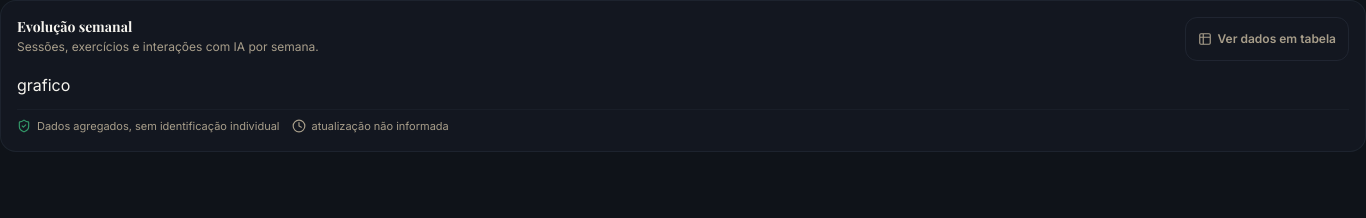
Test: ChartFrame (contrato §9 — gráfico acessível) › tabela vazia informa ausência de dado no período
Click the button "Ver dados em tabela". click: x=1267, y=39
box: x1=1185 y1=17 x2=1349 y2=61
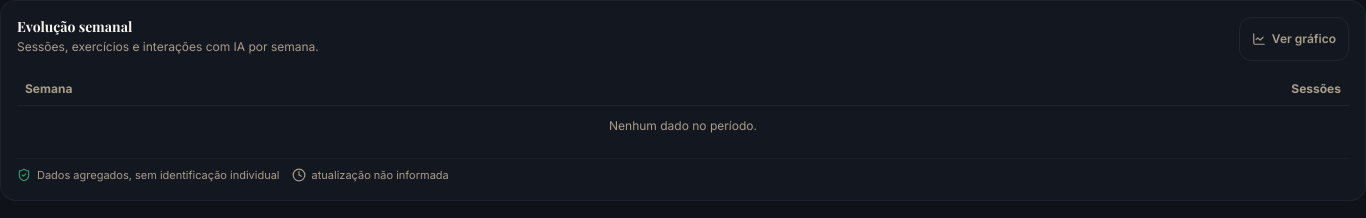
Now the text "Nenhum dado no período." is shown, box x1=17 y1=106 x2=1349 y2=146
